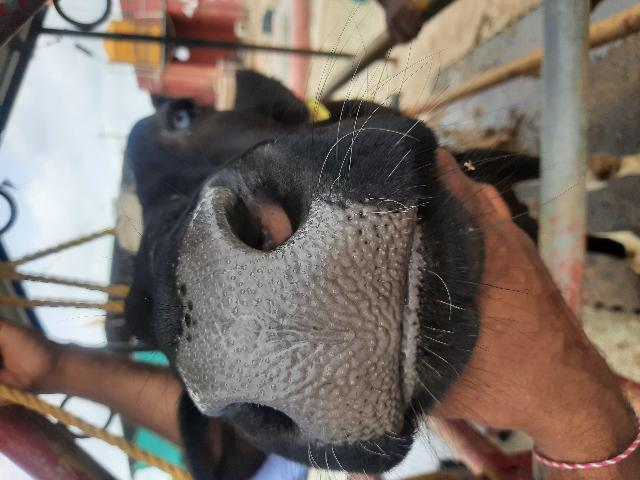Muzzle: (186, 253, 396, 400)
